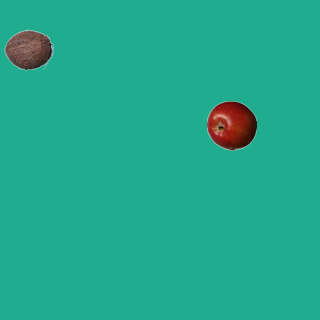Apple Braeburn: (206, 100, 256, 150)
Cocos: (3, 24, 53, 74)
